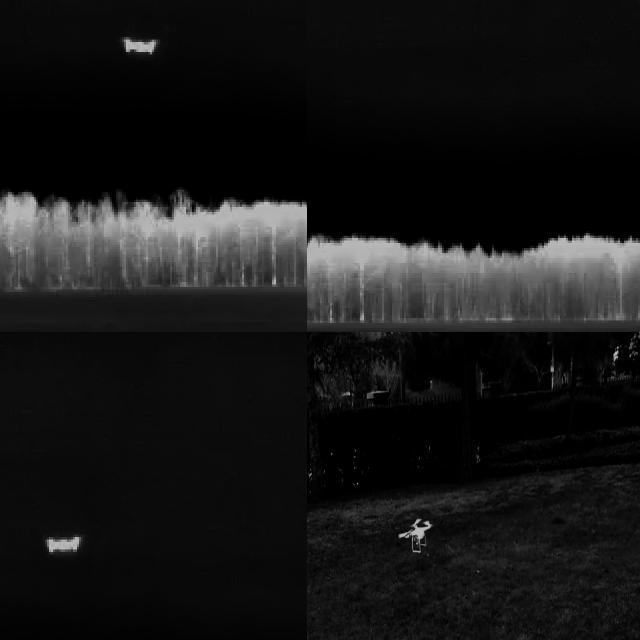1: (109, 30, 169, 66), (32, 530, 92, 564)
drone: (398, 509, 434, 554)
